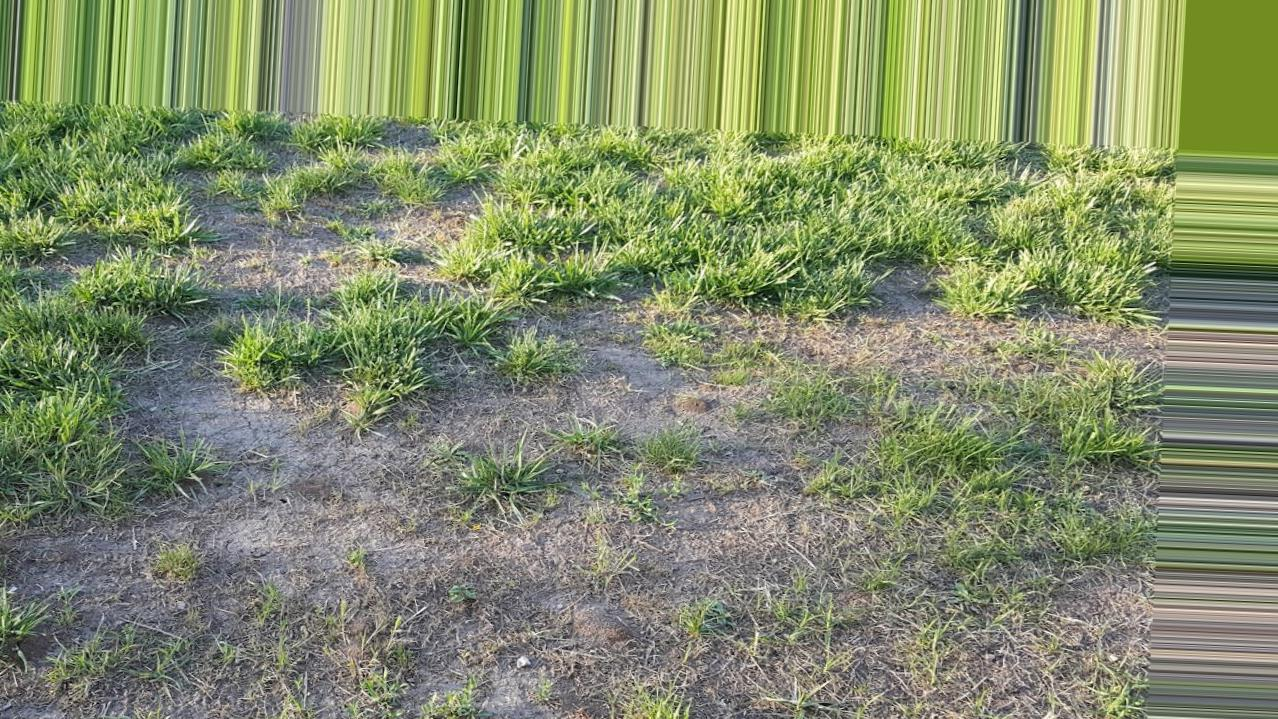patch: (270, 454, 485, 623), (575, 545, 714, 650), (160, 389, 243, 452), (185, 493, 248, 559)
